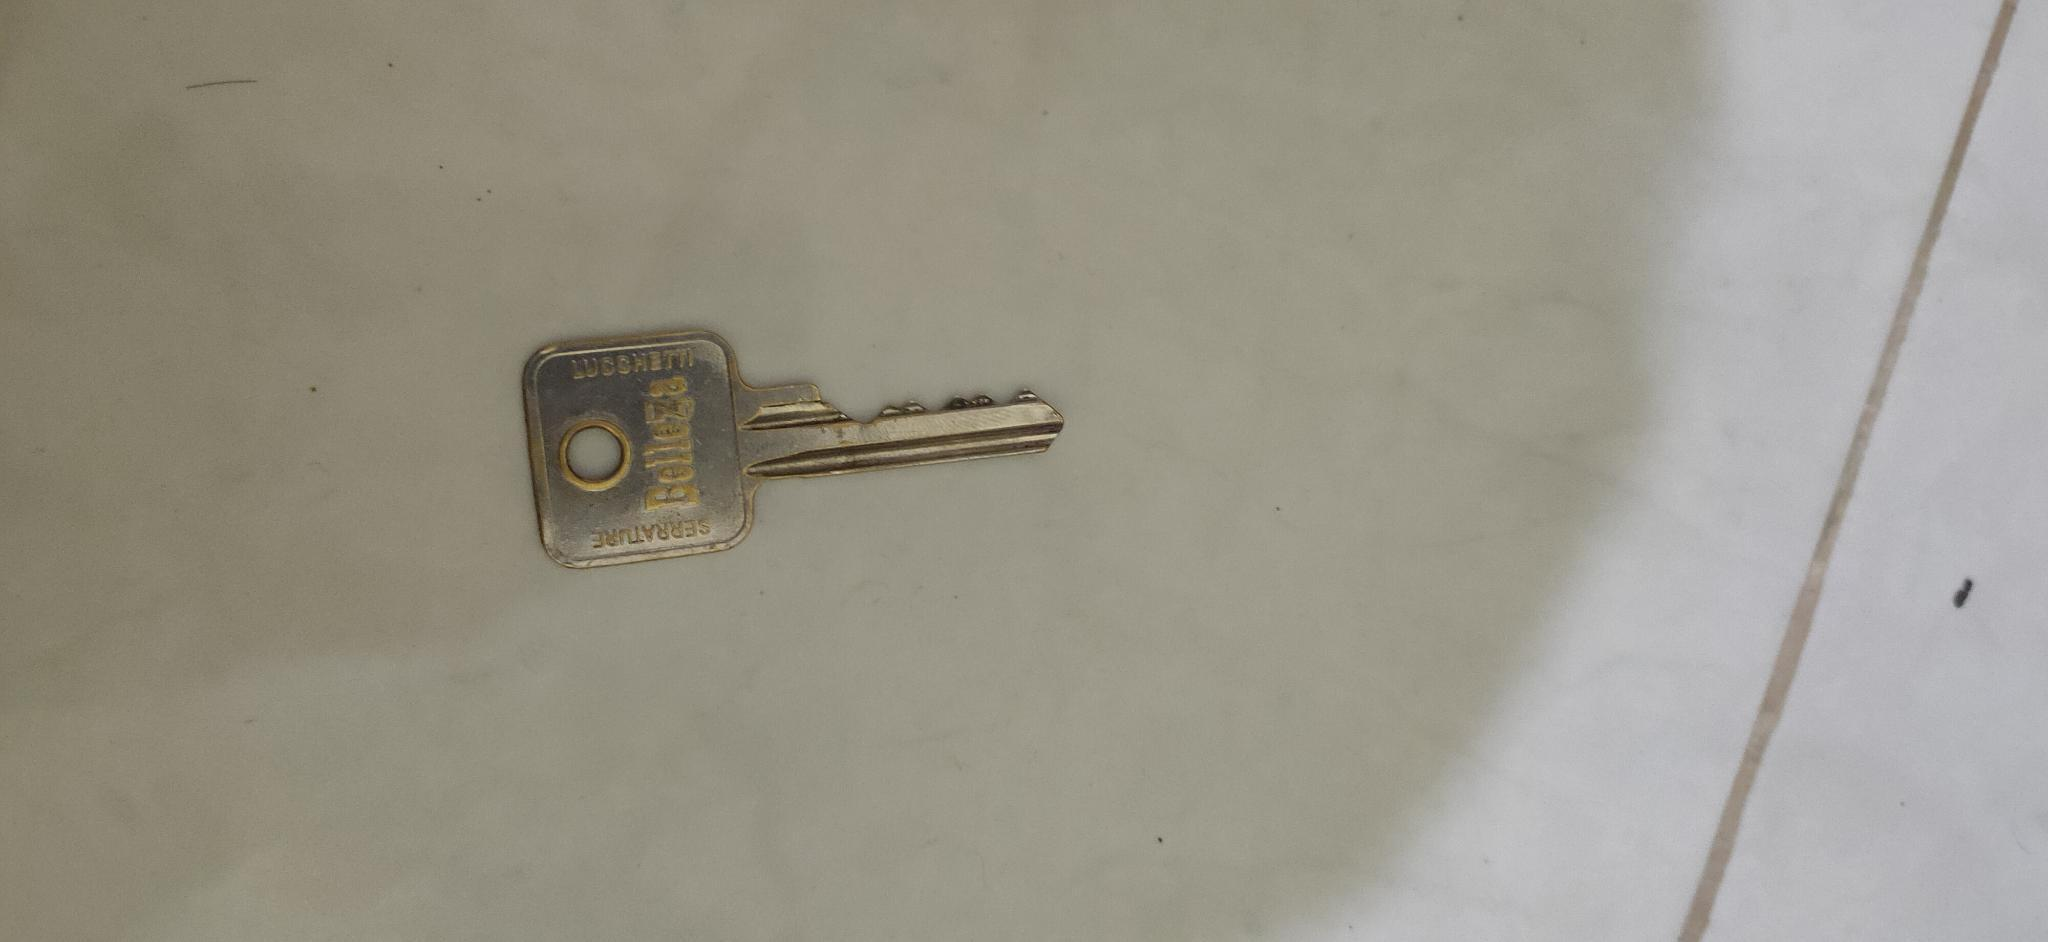keys: (515, 323, 1068, 570)
